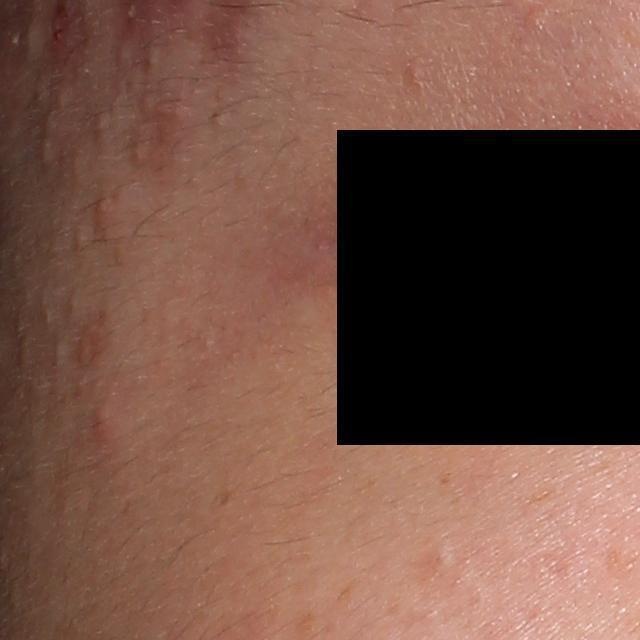comedo: (89, 112, 116, 134), (50, 340, 68, 363)
papule: (88, 400, 117, 440), (93, 193, 115, 219)
